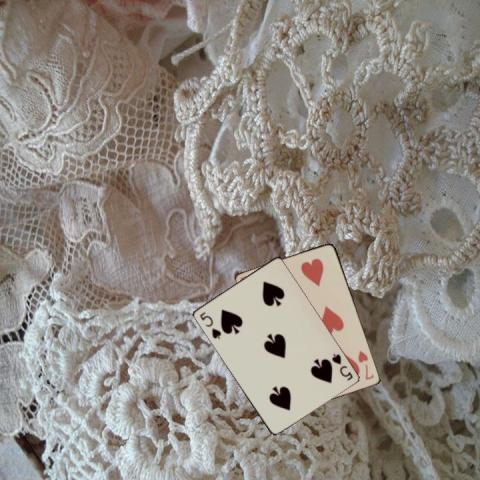5s: (196, 309, 222, 340), (329, 351, 354, 382)
7h: (356, 348, 376, 381)
